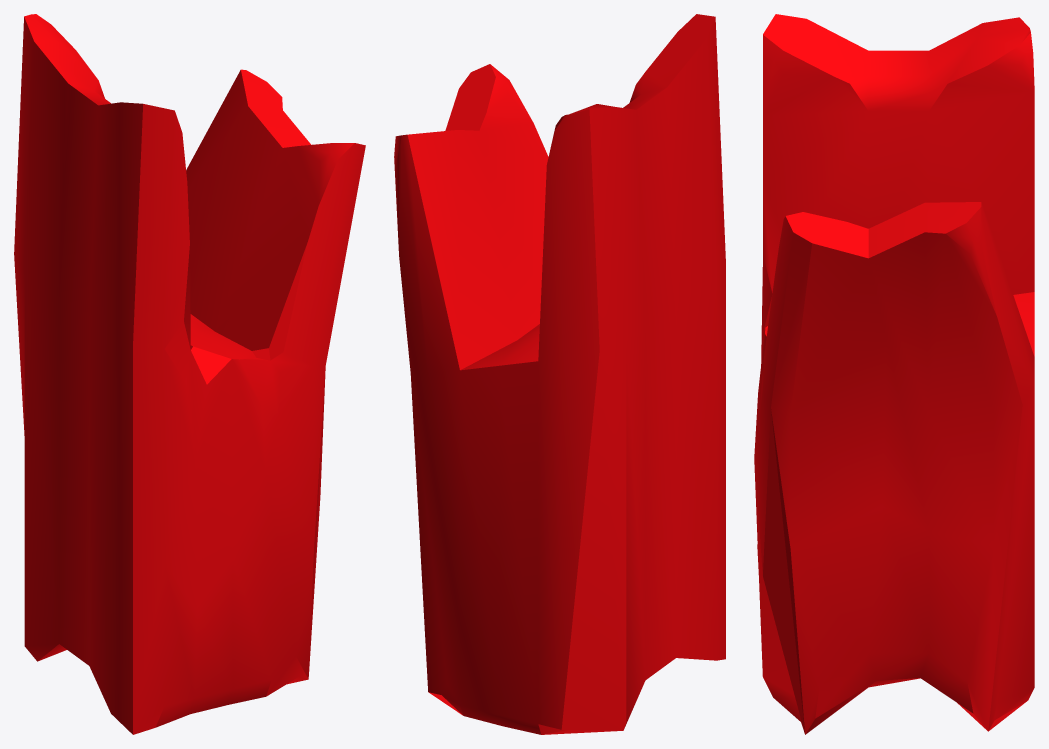
File: Red_Crystal_06.fbx
The picture shows the model from 3 angles, left to right: view 1: azimuth 30°, elevation 25°; view 2: azimuth 150°, elevation 25°; view 3: azimuth 270°, elevation 25°; orthographic projection.
Visible parts, largest first — view 1: Red_Crystal_06; view 2: Red_Crystal_06; view 3: Red_Crystal_06.
Part boxes in pixels (x1=…): Red_Crystal_06: x1=14, y1=14, x2=365, y2=734; Red_Crystal_06: x1=394, y1=14, x2=725, y2=734; Red_Crystal_06: x1=754, y1=14, x2=1034, y2=734.
Size of the model in its own units: 7.61 by 18.28 by 7.35.
